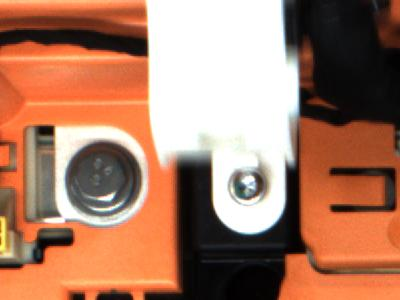nut_b: (57, 139, 144, 220)
